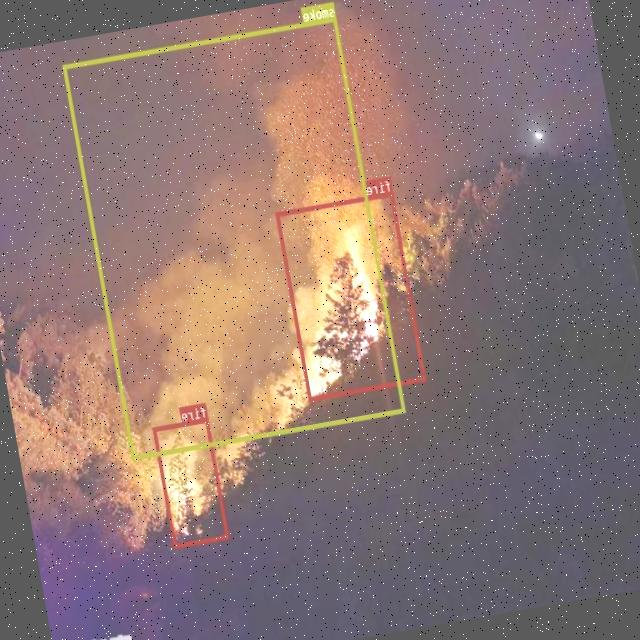fire: (275, 190, 426, 400), (153, 417, 230, 547)
smoke: (63, 16, 406, 458)
